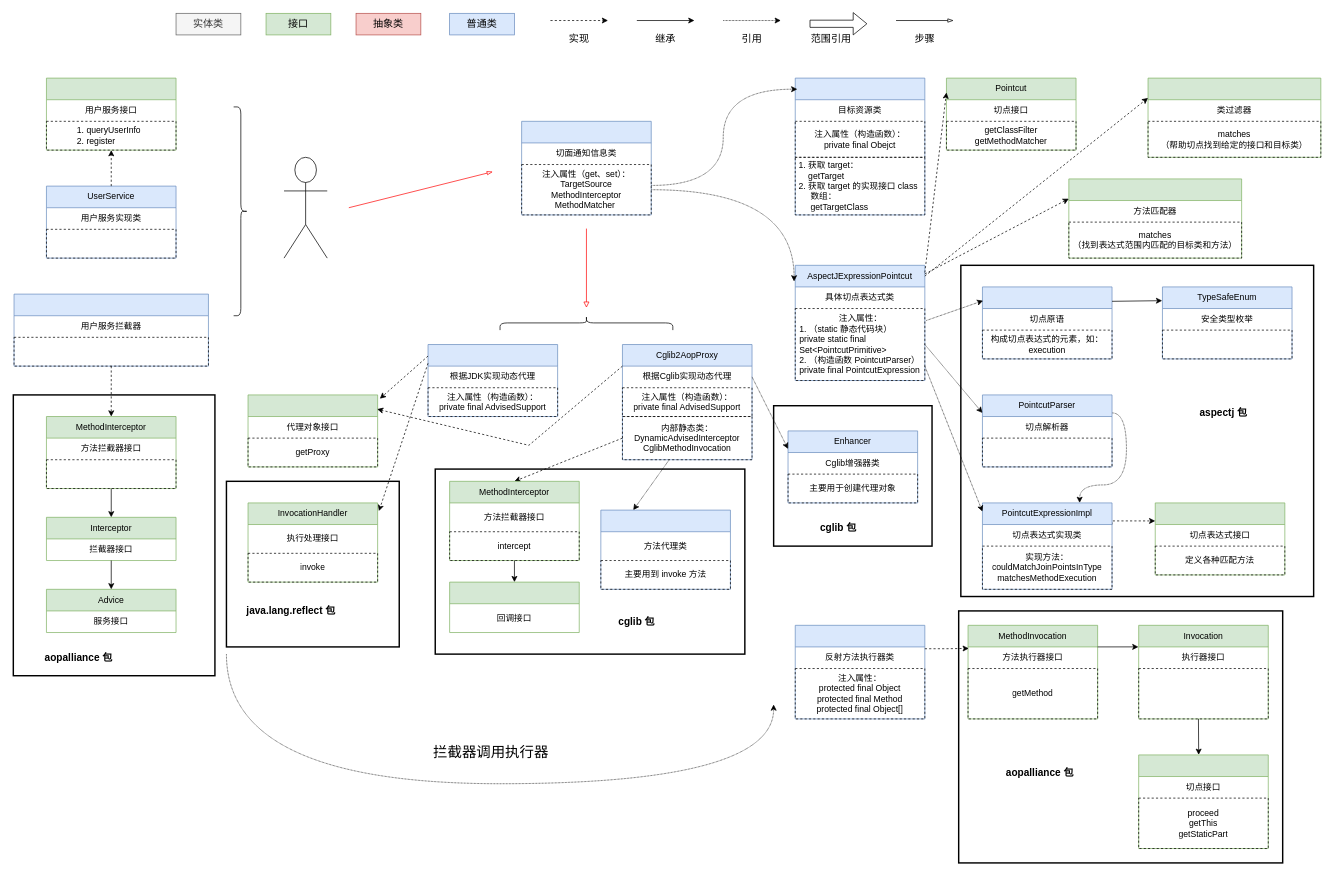
The diagram is 1333 pixels wide and 876 high, and some of its shapes have lost their labels. The shapes that lost their labels are listed below. From the top down, each one's box as (x1, y1, x2, y2) in pixels, then its label:
(46, 77, 176, 150): IUserService
(1147, 77, 1321, 157): ClassFilter
(795, 77, 925, 215): TargetSource
(521, 121, 651, 215): AdvisedSupport
(283, 157, 327, 258): 用户
(1068, 178, 1242, 258): MethodMatcher
(46, 229, 176, 258): 内部实现线程睡眠一定时间 保证代理类先执行代理操作
(13, 293, 208, 366): UserServiceInterceptor
(982, 286, 1112, 359): PointcutPrimitive
(13, 337, 208, 366): 调用入参（方法执行器的 processed 方法） 添加具体的代理操作
(1162, 329, 1292, 359): 在 Java 5之前没有 enum 关键字时，以这种方式实现枚举
(427, 344, 558, 417): JdkDynamicAopProxy
(247, 394, 378, 467): AopProxy
(982, 437, 1112, 467): 根据 expression 具体表达式来提供 PointcutParser
(46, 459, 176, 489): invoke （MethodInvocation）
(600, 509, 730, 589): MethodProxy
(1155, 502, 1285, 575): PointcutExpression
(449, 581, 579, 633): Callback
(795, 625, 925, 719): ReflectiveMethodInvocation
(1138, 668, 1268, 719): getArguments
(1138, 754, 1268, 849): Joinpoint
